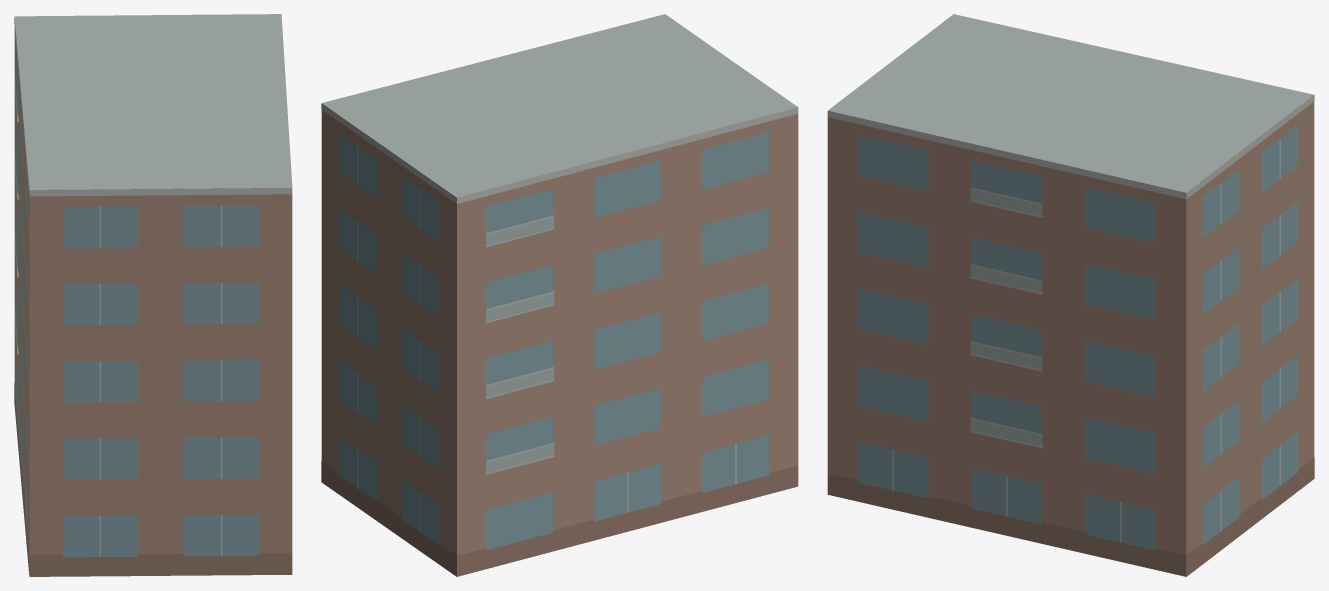
File: survey-upis-32958443.glb
The picture shows the model from 3 angles, left to right: view 1: azimuth 30°, elevation 25°; view 2: azimuth 150°, elevation 25°; view 3: azimuth 270°, elevation 25°; orthographic projection. The views are drawn at different scales.
Visible parts, largest first — view 1: survey-upis-32958443.tmp; view 2: survey-upis-32958443.tmp; view 3: survey-upis-32958443.tmp.
Boxes of the visible parts, x1,y1,x2,y2 form: survey-upis-32958443.tmp: [14, 14, 292, 576]; survey-upis-32958443.tmp: [321, 14, 798, 576]; survey-upis-32958443.tmp: [827, 14, 1314, 576].
Size of the model in its own units: 14.49 by 14.5 by 16.67.
